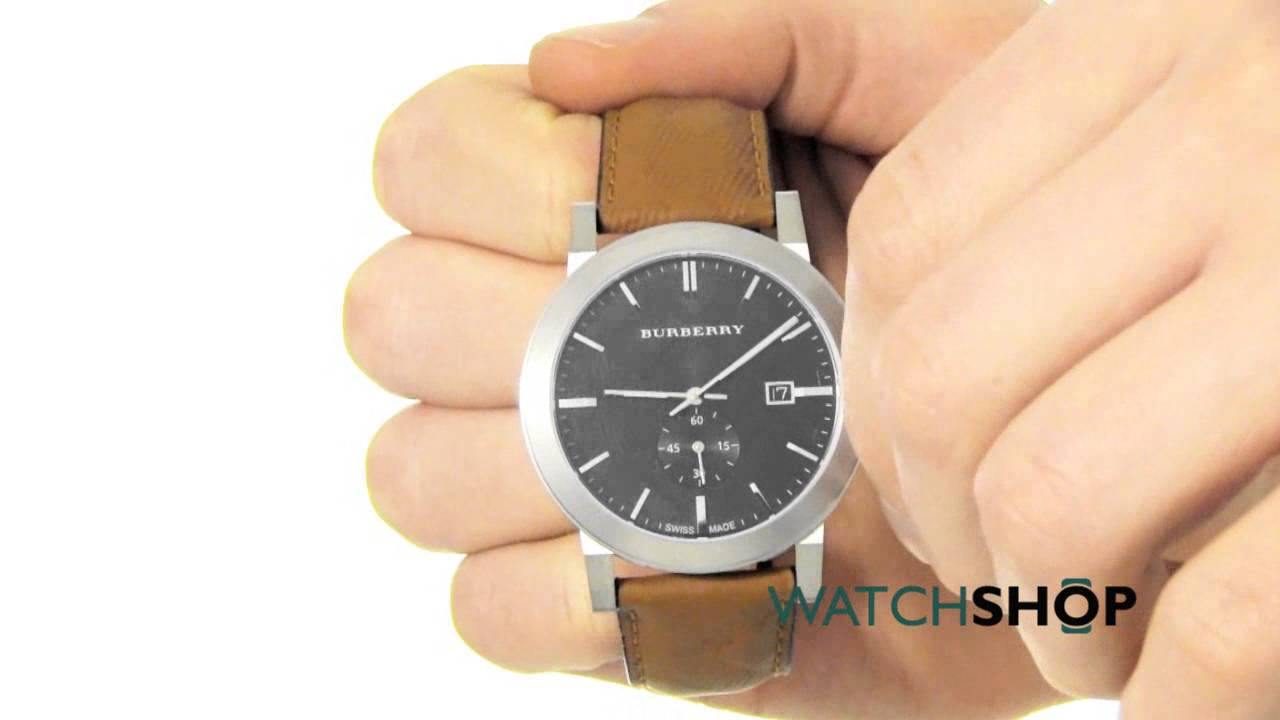clock: (521, 222, 865, 578)
